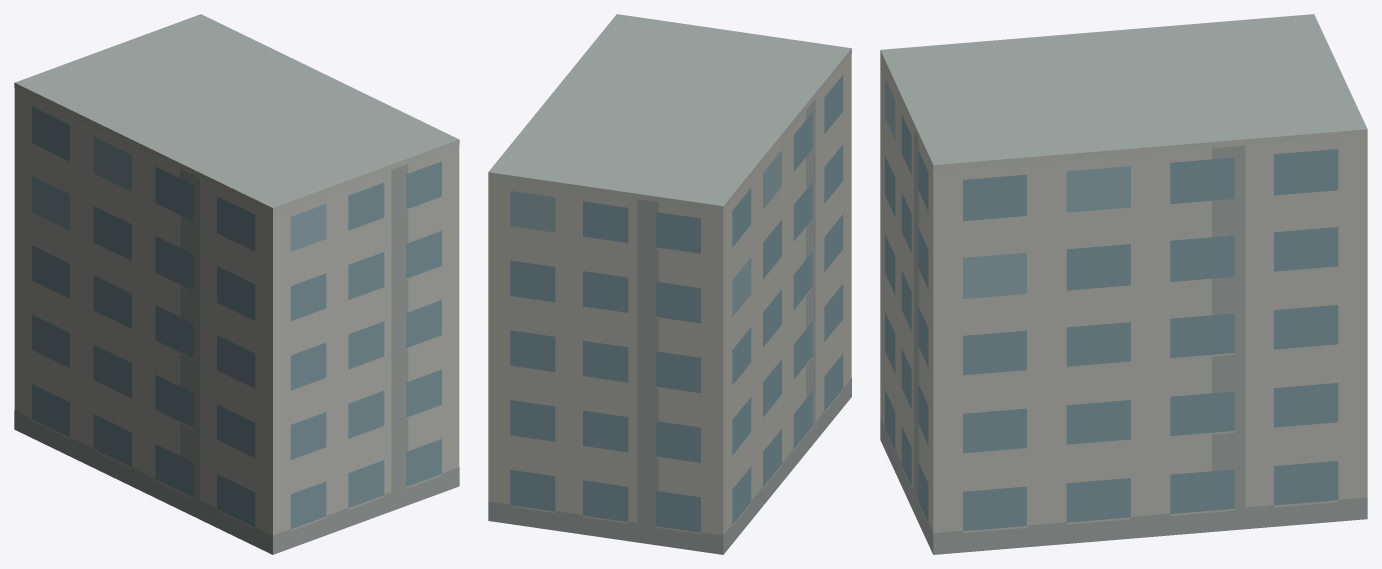
File: residential-e85a6525-48d6-4642-8811-200de03e108f.glb
3 views of the same model, side by side, from view 1: azimuth 30°, elevation 25°; view 2: azimuth 150°, elevation 25°; view 3: azimuth 270°, elevation 25° (orthographic). The views are drawn at different scales.
Visible parts, largest first — view 1: residential-e85a6525-48d6-4642-8811-200de03e108f.tmp; view 2: residential-e85a6525-48d6-4642-8811-200de03e108f.tmp; view 3: residential-e85a6525-48d6-4642-8811-200de03e108f.tmp.
Boxes of the visible parts, <box> form: residential-e85a6525-48d6-4642-8811-200de03e108f.tmp: <box>14,14,459,554</box>; residential-e85a6525-48d6-4642-8811-200de03e108f.tmp: <box>488,14,851,554</box>; residential-e85a6525-48d6-4642-8811-200de03e108f.tmp: <box>880,14,1367,554</box>.
Size of the model in its own units: 12.68 by 15.25 by 17.29.
